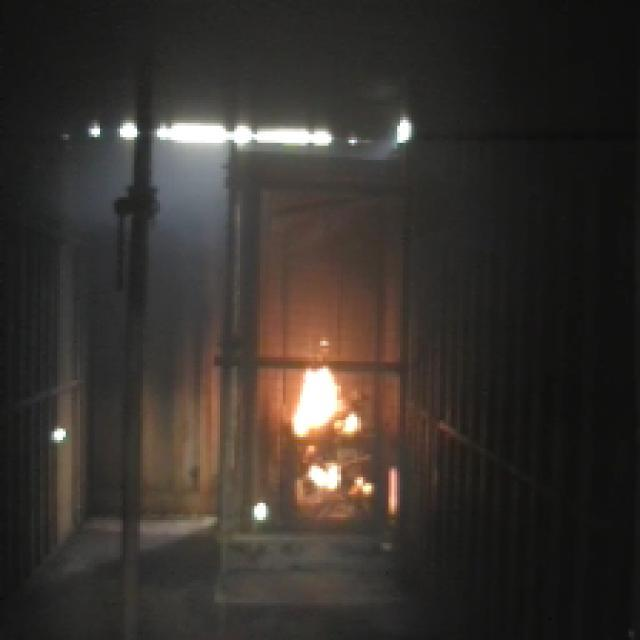Fire: (284, 360, 356, 495)
